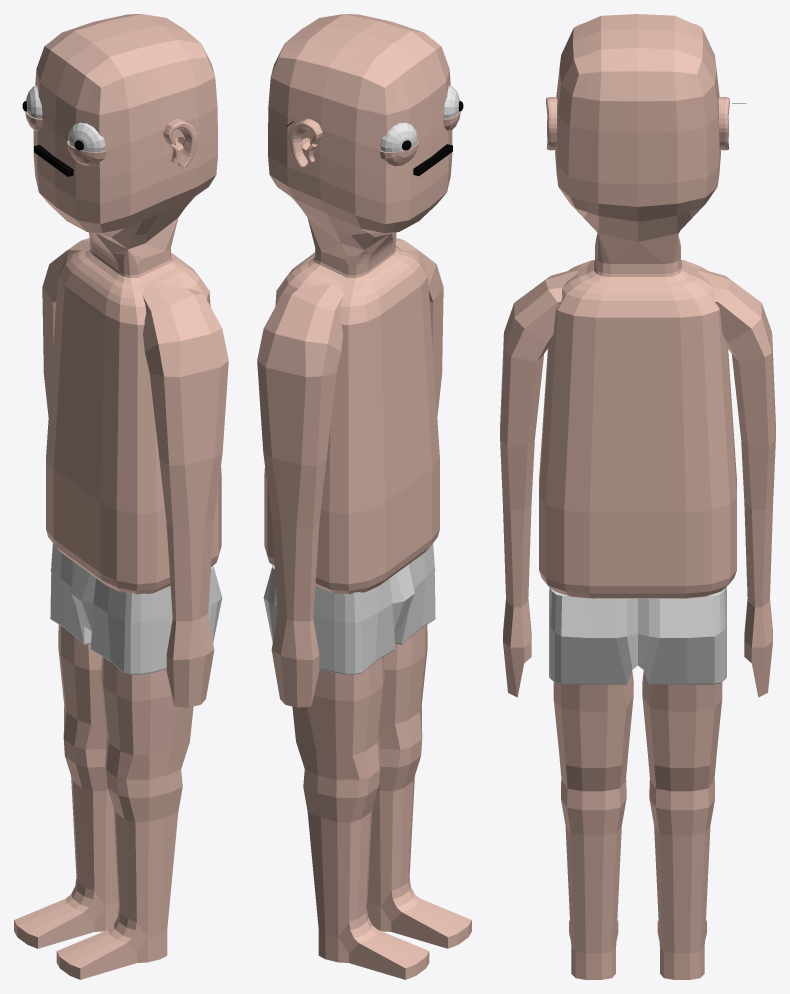
File: human-joined-neck.fbx
3 renders of one model, left to right at view 1: azimuth 30°, elevation 25°; view 2: azimuth 150°, elevation 25°; view 3: azimuth 270°, elevation 25°, orthographic. The views are drawn at different scales.
Visible parts, largest first — view 1: head, feet, arms, underwear, eyes, ear lobe outer, eye lids; view 2: head, feet, arms, underwear, eyes, ear lobe outer, eye lids; view 3: head, feet, arms, underwear, ear lobe outer.
Boxes of the visible parts, <box> form: head: <box>33,14,221,594</box>; feet: <box>14,624,193,979</box>; arms: <box>42,238,228,707</box>; underwear: <box>50,543,222,674</box>; eyes: <box>26,85,105,152</box>; ear lobe outer: <box>163,118,197,167</box>; eye lids: <box>25,111,106,166</box>; head: <box>264,14,452,594</box>; feet: <box>292,624,471,979</box>; arms: <box>257,238,443,707</box>; underwear: <box>263,543,435,674</box>; eyes: <box>380,85,459,152</box>; ear lobe outer: <box>288,118,322,167</box>; eye lids: <box>379,111,460,166</box>; head: <box>539,14,736,598</box>; feet: <box>553,671,722,979</box>; arms: <box>500,268,775,697</box>; underwear: <box>549,587,726,684</box>; ear lobe outer: <box>546,97,729,150</box>.
Bounding box in the file's own units: 5271 × 29783 × 7895.
